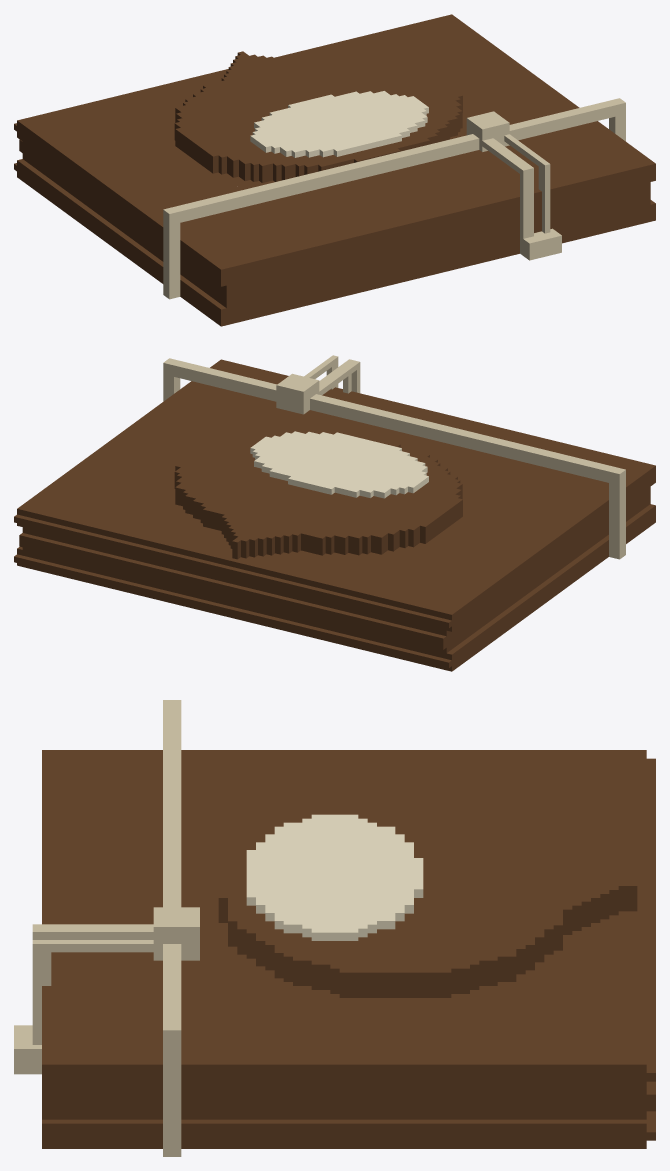
The model's file is hooded_robe.glb.
The picture shows the model from 3 angles, top to bottom: view 1: azimuth 30°, elevation 25°; view 2: azimuth 150°, elevation 25°; view 3: azimuth 270°, elevation 25°; orthographic projection. The views are drawn at different scales.
Parts seen in each view (by area): view 1: hooded_robe:compound; view 2: hooded_robe:compound; view 3: hooded_robe:compound.
Boxes of the visible parts, <box> form: hooded_robe:compound: <box>14,14,655,326</box>; hooded_robe:compound: <box>14,355,655,671</box>; hooded_robe:compound: <box>14,700,655,1156</box>.
Bounding box in the file's own units: 0.336 × 0.068 × 0.276.
